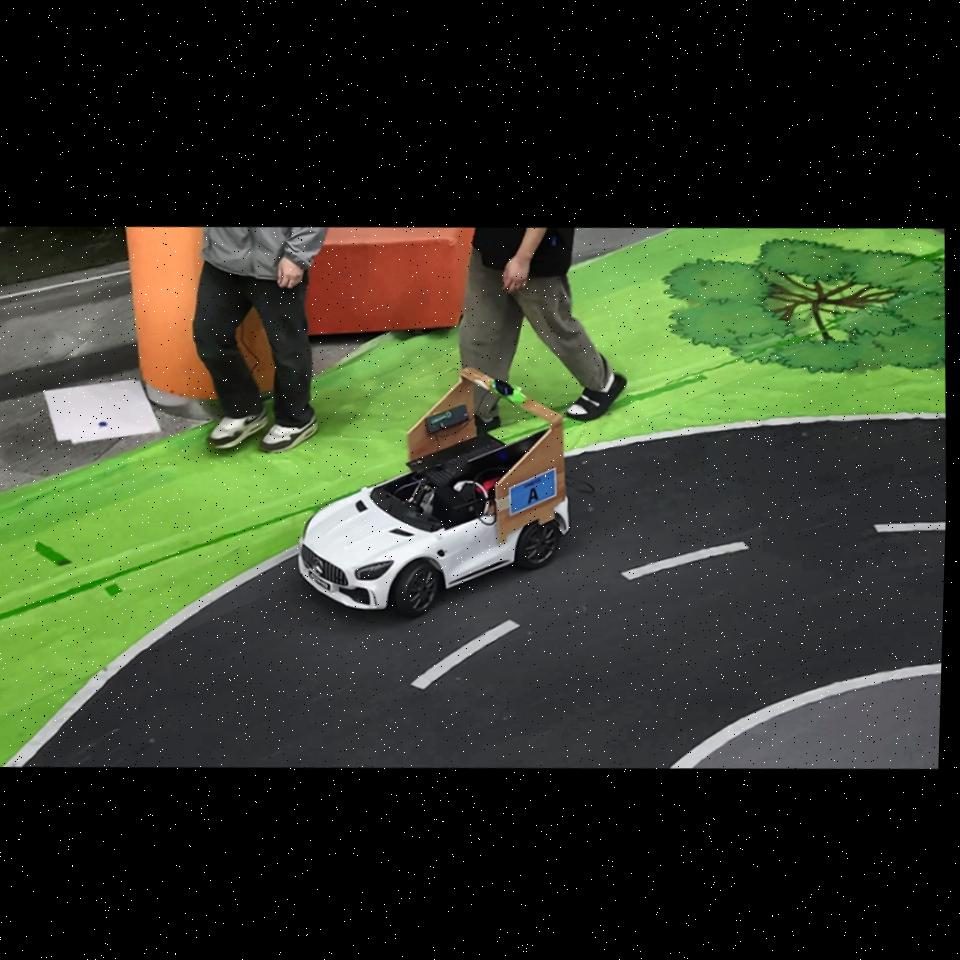broken_line: (411, 620, 519, 689), (621, 541, 749, 580), (874, 522, 946, 532)
